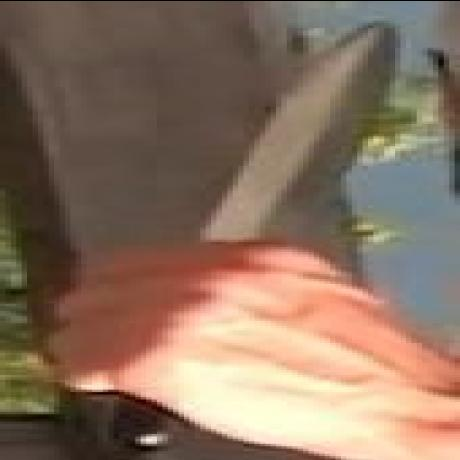1: (42, 232, 460, 460)
weapon: (192, 19, 406, 249)
